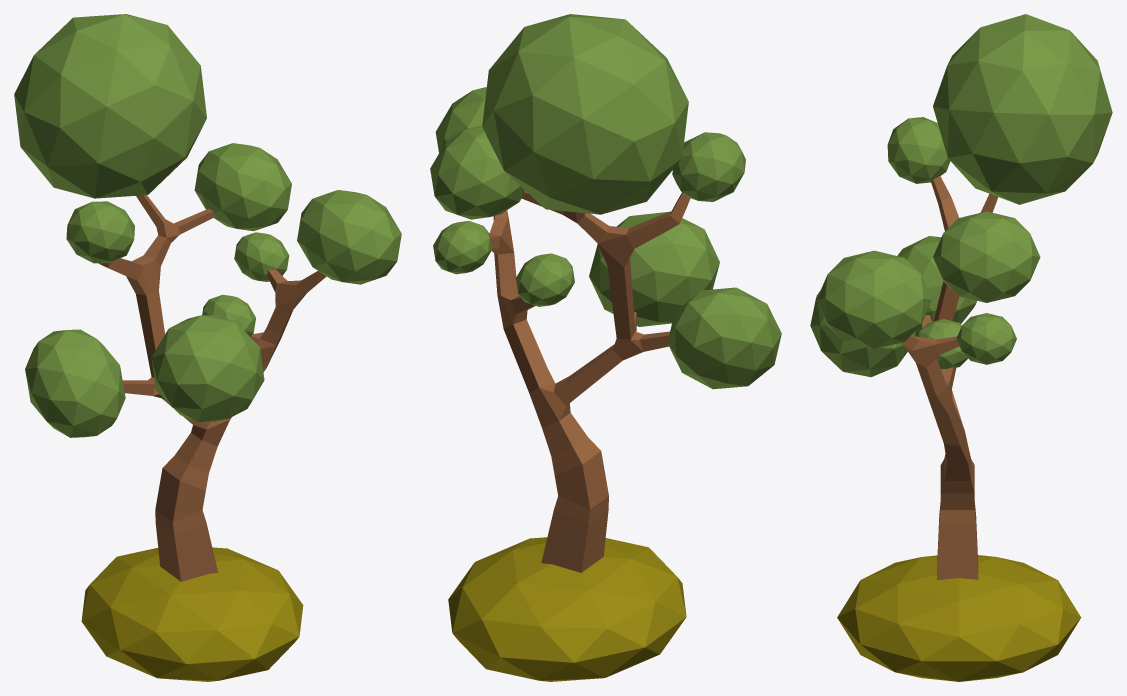
The model's file is tree2.fbx.
The picture shows the model from 3 angles, left to right: view 1: azimuth 30°, elevation 25°; view 2: azimuth 150°, elevation 25°; view 3: azimuth 270°, elevation 25°; orthographic projection. The views are drawn at different scales.
Visible parts, largest first — view 1: Leaf.001, Land, Tree, Leaf.003, Leaf.004, Leaf, Leaf.005, Leaf.006, Leaf.002, Leaf.007; view 2: Leaf.001, Land, Tree, Leaf.004, Leaf.003, Leaf.005, Leaf.006, Leaf.007, Leaf.002, Leaf; view 3: Leaf.001, Land, Tree, Leaf, Leaf.005, Leaf.006, Leaf.003, Leaf.002, Leaf.004, Leaf.007.
Part boxes in pixels (left/top/right/bottom): Leaf.001: left=14, top=14, right=206, bottom=198; Land: left=81, top=547, right=303, bottom=681; Tree: left=99, top=195, right=326, bottom=581; Leaf.003: left=151, top=315, right=264, bottom=422; Leaf.004: left=25, top=329, right=125, bottom=437; Leaf: left=297, top=190, right=401, bottom=284; Leaf.005: left=194, top=143, right=291, bottom=231; Leaf.006: left=66, top=201, right=134, bottom=263; Leaf.002: left=234, top=232, right=289, bottom=281; Leaf.007: left=202, top=294, right=255, bottom=336; Leaf.001: left=482, top=14, right=688, bottom=214; Land: left=448, top=537, right=686, bottom=681; Tree: left=489, top=190, right=690, bottom=572; Leaf.004: left=667, top=287, right=781, bottom=389; Leaf.003: left=589, top=211, right=719, bottom=326; Leaf.005: left=430, top=126, right=524, bottom=219; Leaf.006: left=672, top=132, right=745, bottom=201; Leaf.007: left=516, top=253, right=574, bottom=306; Leaf.002: left=433, top=221, right=492, bottom=274; Leaf: left=435, top=87, right=486, bottom=152; Leaf.001: left=933, top=14, right=1112, bottom=204; Land: left=837, top=555, right=1081, bottom=681; Tree: left=901, top=176, right=998, bottom=579; Leaf: left=816, top=250, right=931, bottom=349; Leaf.005: left=933, top=211, right=1040, bottom=302; Leaf.006: left=887, top=117, right=950, bottom=183; Leaf.003: left=810, top=291, right=915, bottom=377; Leaf.002: left=956, top=313, right=1016, bottom=364; Leaf.004: left=897, top=236, right=976, bottom=336; Leaf.007: left=917, top=319, right=967, bottom=369.
Bounding box in the file's own units: 214 × 386 × 171.
